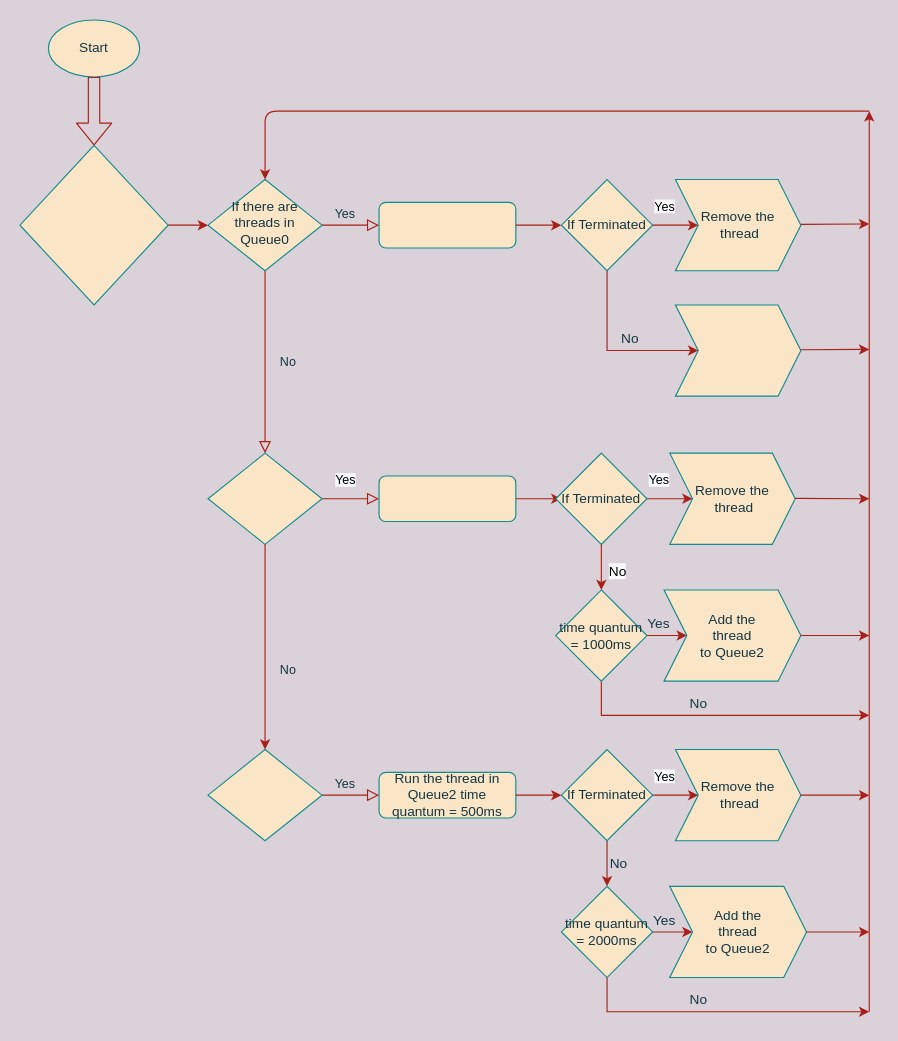
This 898x1041 diagram has some shape labels left out. Each missing label, with the box of its shape:
Add the thread to Queue1: (674, 304, 801, 396)
If there are threads in Queue1: (207, 452, 322, 544)
If there are threads in Queue2: (207, 748, 322, 841)
No threads in Queue 0,1,2: (19, 144, 168, 305)
Run the thread in Queue0 time quantum = 500ms: (378, 201, 516, 248)
Run the thread in Queue1 time quantum = 500ms: (378, 475, 516, 522)
